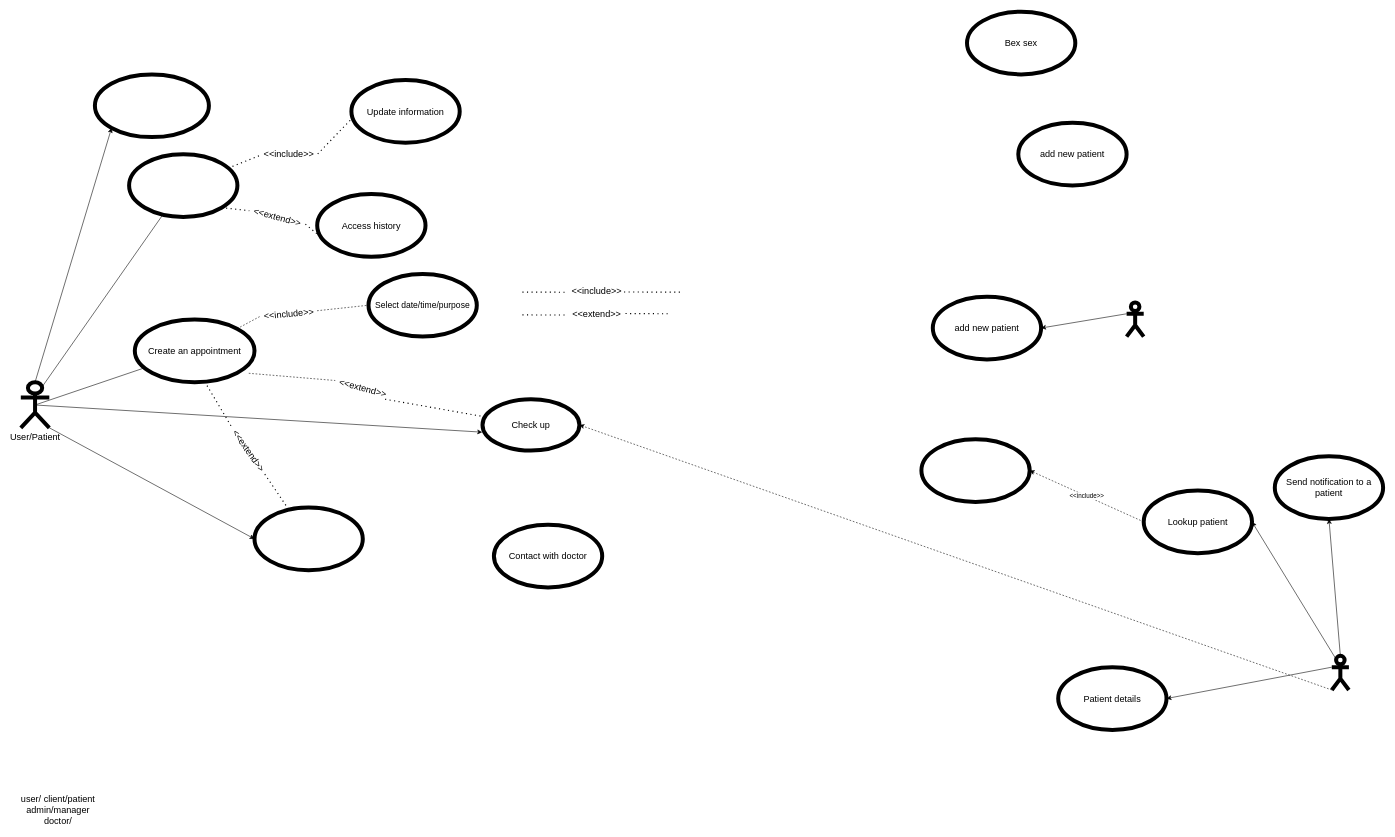
Image size: 1395x837. Some labels were removed from this diagram. Each missing label, with the centre of its shape:
"Admin/Manager" goes at (1134,319).
"Create account" goes at (152,105).
"Delete appointment" goes at (308,538).
"Doctor" goes at (1340,673).
"Login to personal page" goes at (183,185).
"See patient history" goes at (975,470).
